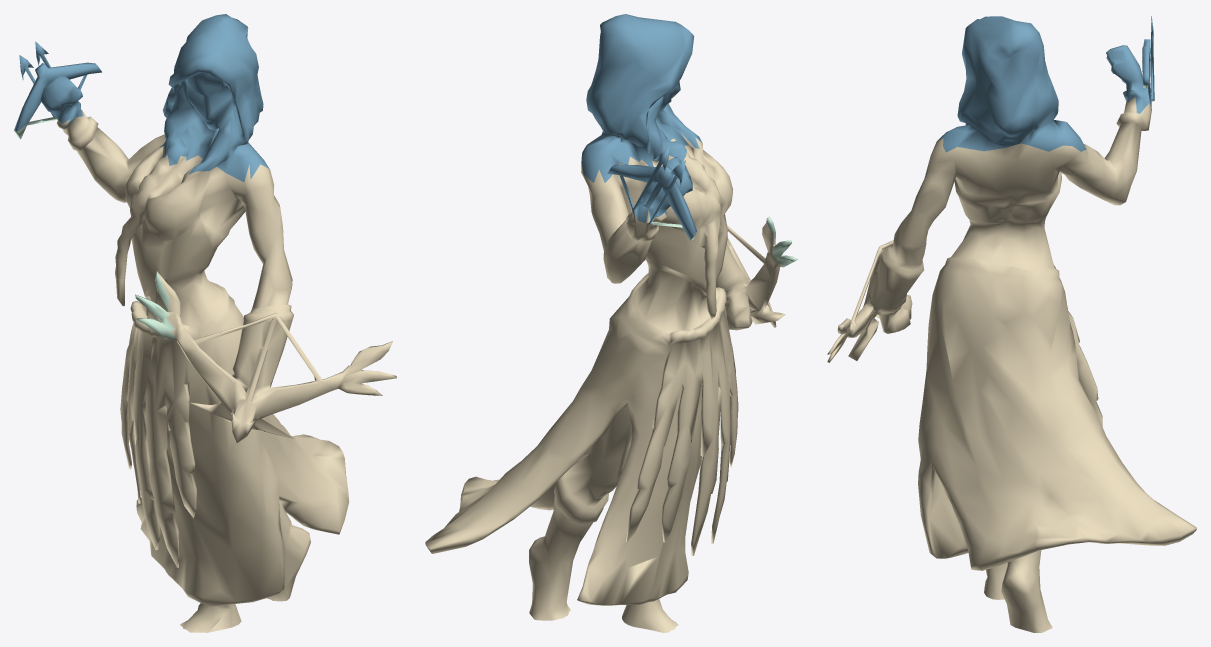
Rendered from original-archer.glb.
The picture shows the model from 3 angles, left to right: view 1: azimuth 30°, elevation 25°; view 2: azimuth 150°, elevation 25°; view 3: azimuth 270°, elevation 25°; orthographic projection. The views are drawn at different scales.
Visible parts, largest first — view 1: Original_sculpt.001; view 2: Original_sculpt.001; view 3: Original_sculpt.001.
Boxes of the visible parts, x1,y1,x2,y2 form: Original_sculpt.001: (14,14,396,632); Original_sculpt.001: (425,14,798,632); Original_sculpt.001: (827,16,1196,632).
Size of the model in its own units: 0.6427 by 1.34 by 0.7833.
